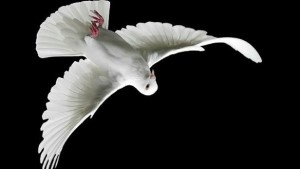pigeon: (33, 0, 265, 169)
